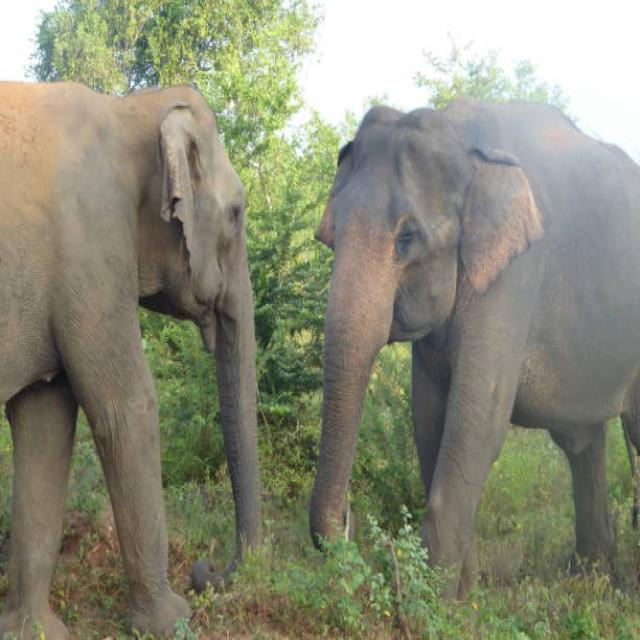Elephant: (309, 88, 640, 591), (0, 72, 265, 640)
